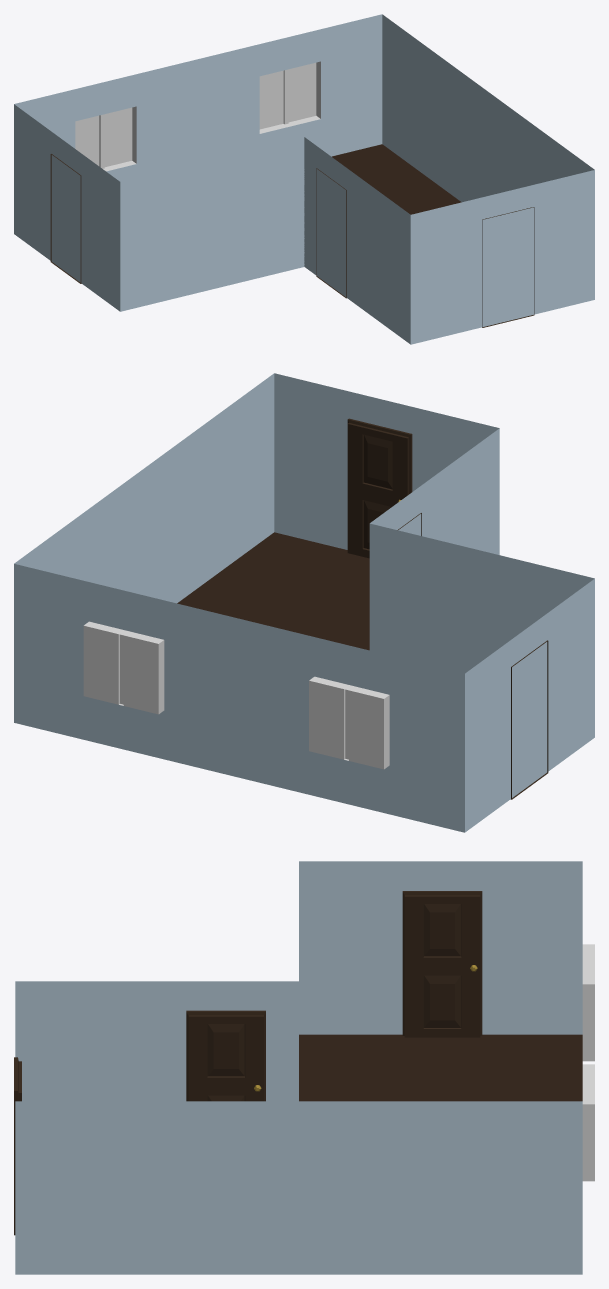
File: Room.fbx
3 renders of one model, top to bottom at view 1: azimuth 30°, elevation 25°; view 2: azimuth 150°, elevation 25°; view 3: azimuth 270°, elevation 25°, orthographic. The views are drawn at different scales.
Visible parts, largest first — view 1: Plane, Cube.001; view 2: Plane, Cube.002; view 3: Plane, Cube.001, Cube, Cube.002.
Boxes of the visible parts, x1,y1,x2,y2 form: Plane: [14, 14, 594, 344]; Cube.001: [50, 154, 81, 283]; Plane: [14, 373, 594, 832]; Cube.002: [347, 418, 412, 558]; Plane: [15, 861, 594, 1274]; Cube.001: [402, 891, 482, 1037]; Cube: [186, 1010, 265, 1101]; Cube.002: [14, 1057, 21, 1235].
Bounding box in the file's own units: 1002 × 338 × 1024.
